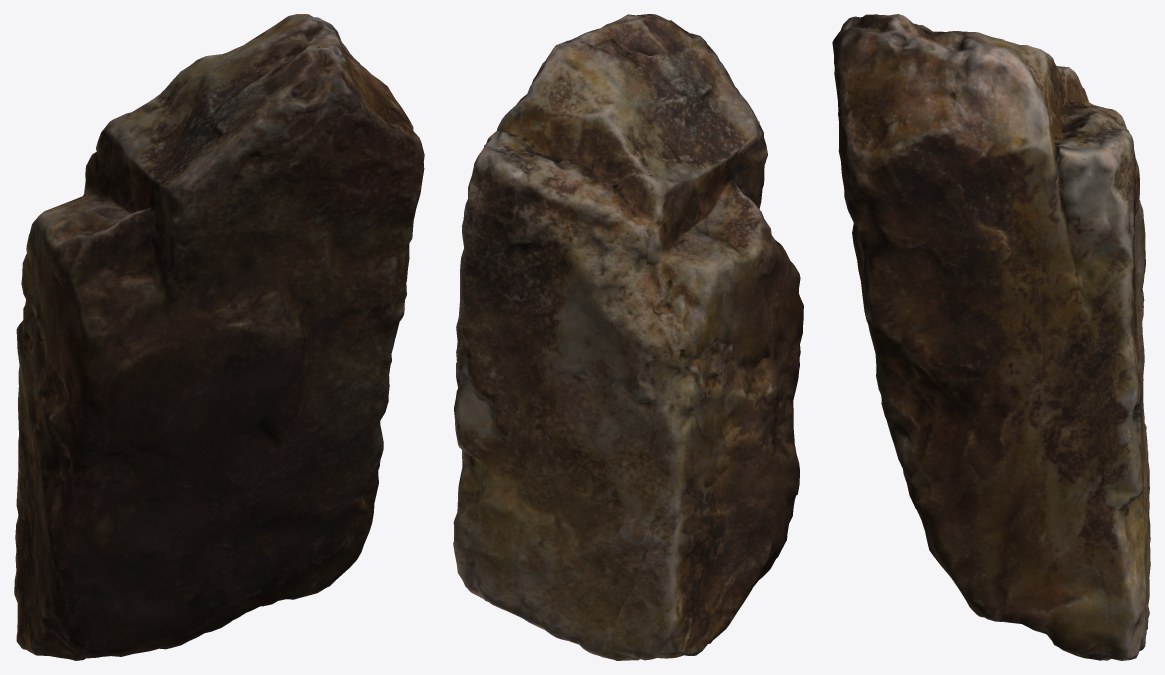
Rendered from BasaltAltar.obj.
3 views of the same model, side by side, from view 1: azimuth 30°, elevation 25°; view 2: azimuth 150°, elevation 25°; view 3: azimuth 270°, elevation 25° (orthographic). The views are drawn at different scales.
Visible parts, largest first — view 1: BasaltAltar; view 2: BasaltAltar; view 3: BasaltAltar.
Boxes of the visible parts, x1,y1,x2,y2 form: BasaltAltar: (14, 14, 424, 660); BasaltAltar: (453, 14, 803, 660); BasaltAltar: (832, 14, 1150, 660).
Bounding box in the file's own units: 1.32 × 2.5 × 1.12.
1 material, 1 textured.
